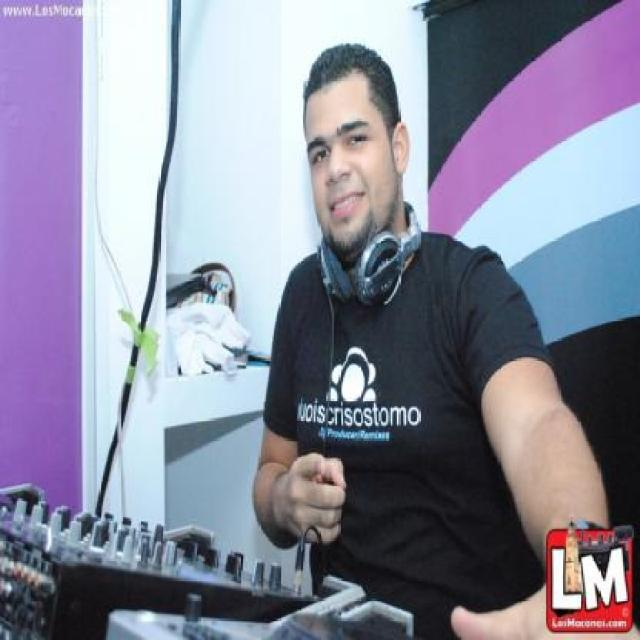earphone: (285, 212, 463, 313)
